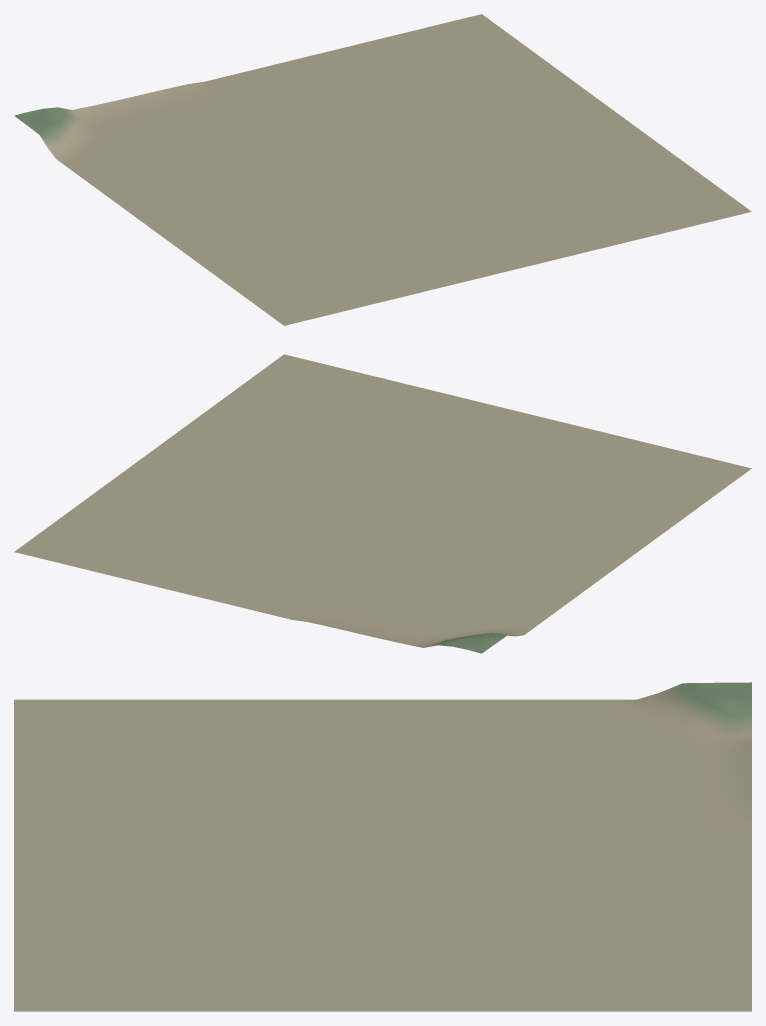
3 renders of one model, top to bottom at view 1: azimuth 30°, elevation 25°; view 2: azimuth 150°, elevation 25°; view 3: azimuth 270°, elevation 25°, orthographic. The views are drawn at different scales.
Visible parts, largest first — view 1: Terrain-col; view 2: Terrain-col; view 3: Terrain-col.
Part boxes in pixels (<box>): Terrain-col: <box>14,14,751,325</box>; Terrain-col: <box>14,354,751,653</box>; Terrain-col: <box>14,682,751,1011</box>.
Bounding box in the file's own units: 256 × 6.71 × 256.
